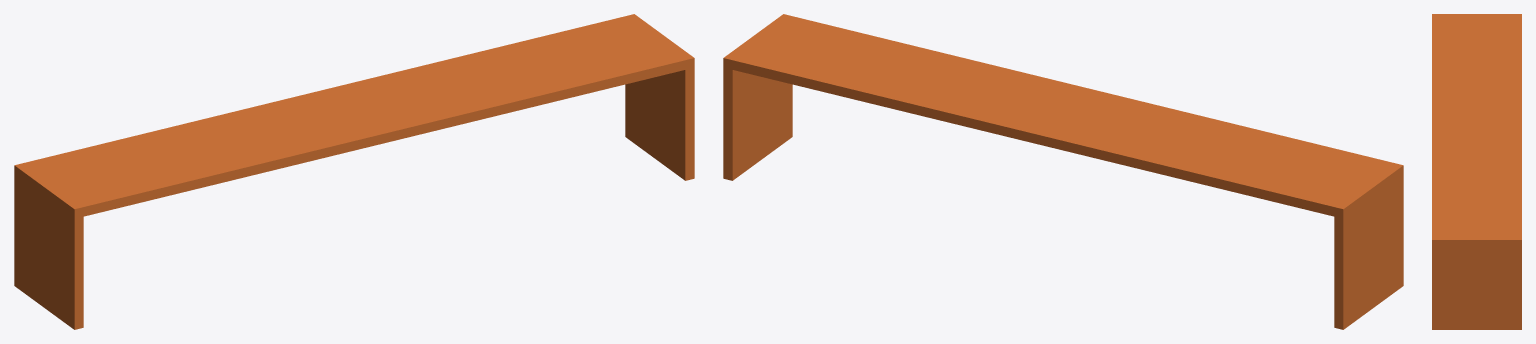
The model's file is Wall Table lv1.fbx.
The picture shows the model from 3 angles, left to right: view 1: azimuth 30°, elevation 25°; view 2: azimuth 150°, elevation 25°; view 3: azimuth 270°, elevation 25°; orthographic projection. The views are drawn at different scales.
Parts seen in each view (by area): view 1: Wall_Table_lv1; view 2: Wall_Table_lv1; view 3: Wall_Table_lv1.
Part boxes in pixels (x1,y1,x2,y2): Wall_Table_lv1: (14,14,694,329); Wall_Table_lv1: (723,14,1403,329); Wall_Table_lv1: (1432,14,1521,329).
Bounding box in the file's own units: 803 × 149 × 135.
